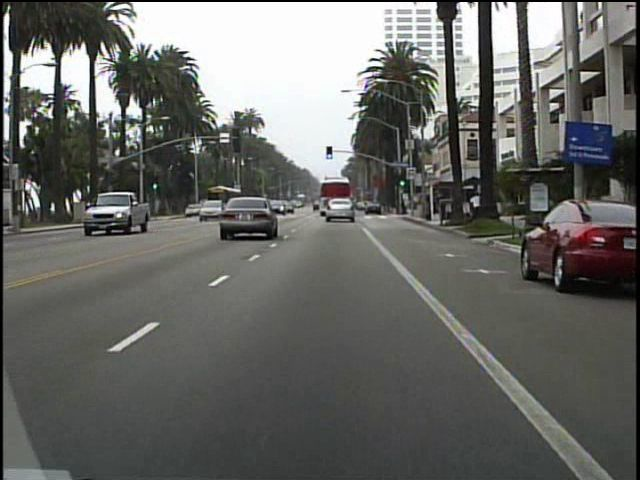person: (468, 191, 485, 224)
